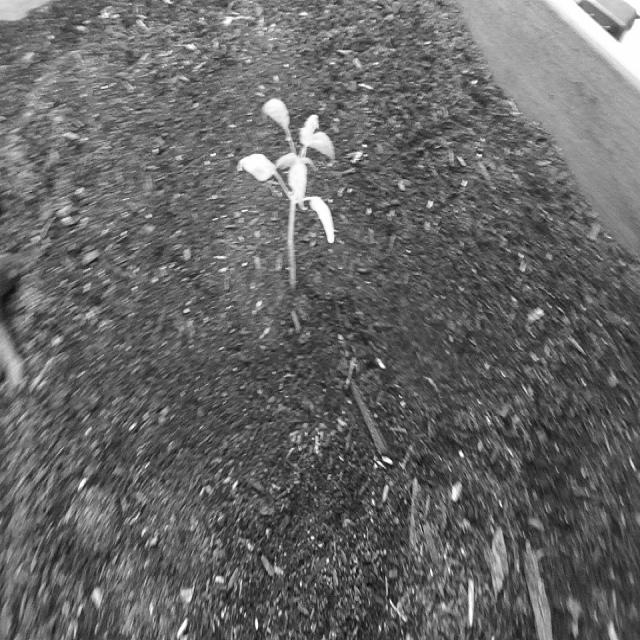Healthy: (235, 93, 339, 294)
